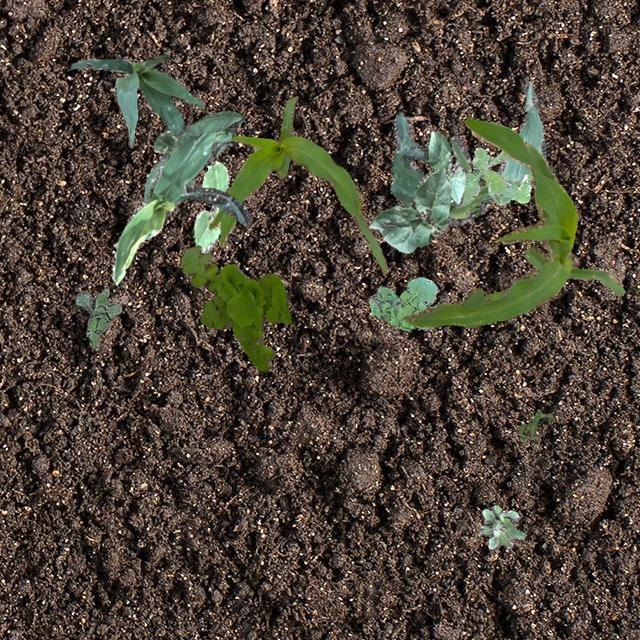crop: (402, 116, 624, 326), (208, 96, 386, 272), (390, 80, 544, 224), (110, 130, 252, 284), (70, 53, 202, 158), (142, 110, 242, 202), (368, 166, 450, 252), (192, 160, 228, 252), (424, 128, 466, 206)
weed: (180, 244, 290, 370), (459, 146, 532, 204), (368, 276, 437, 330), (74, 288, 120, 348), (478, 504, 524, 548), (514, 408, 552, 440)
